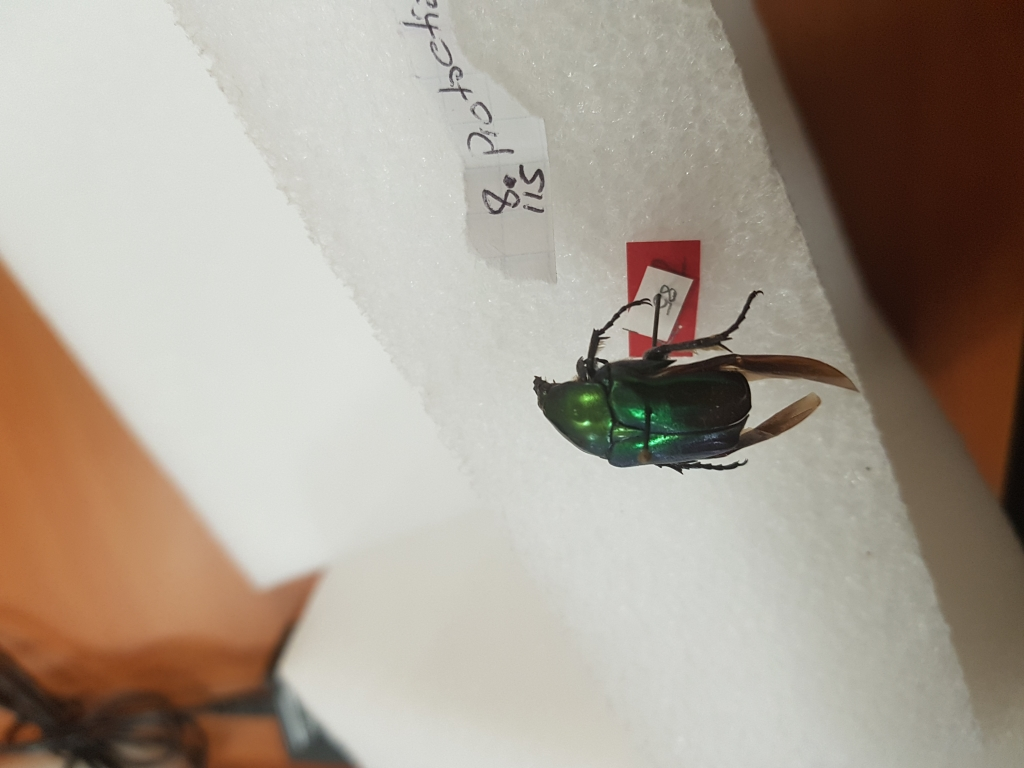Protaetia_besucheti: (518, 288, 875, 483)
